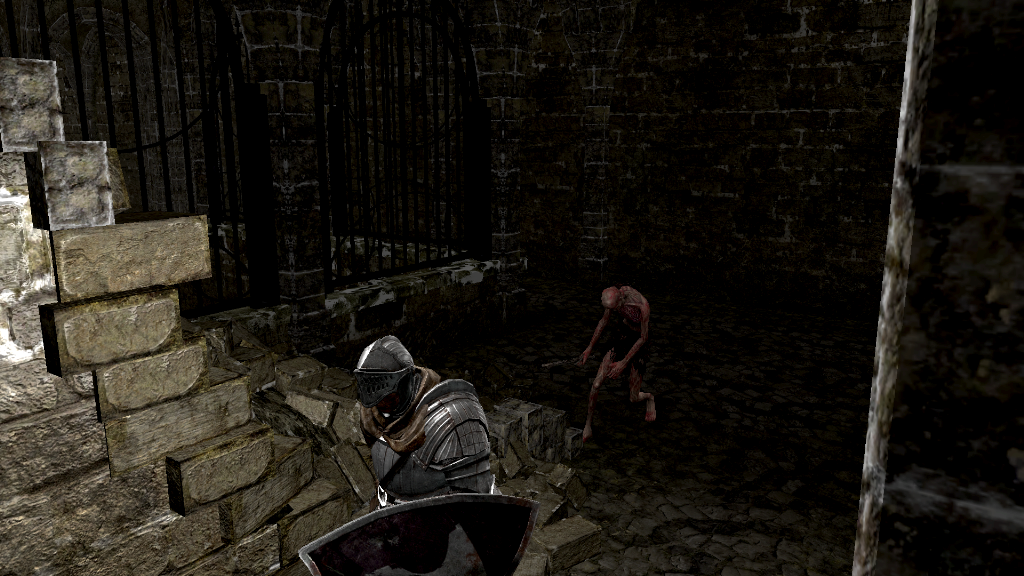hollow: (580, 285, 656, 443)
player: (296, 331, 541, 576)
